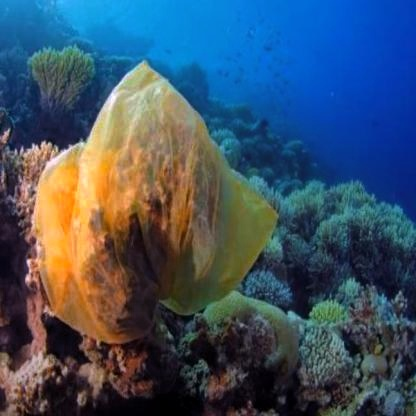plastic: (38, 92, 266, 338)
